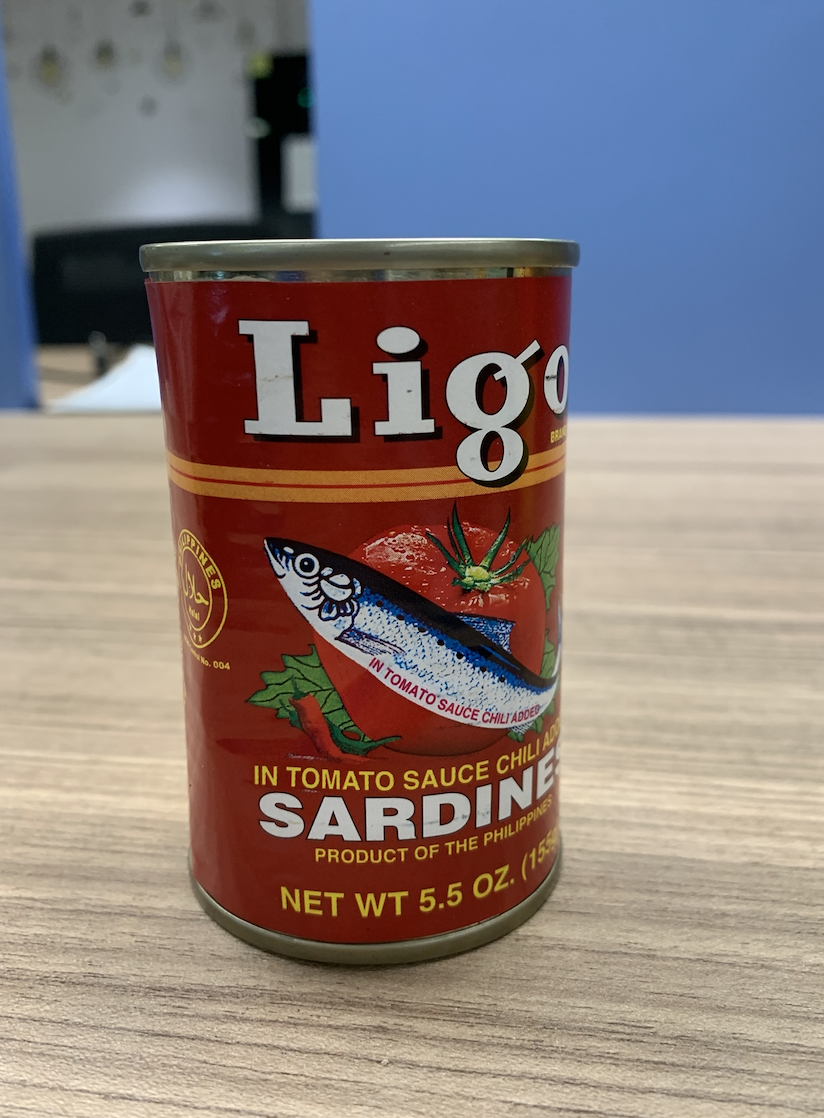sardines_100g-199g: (179, 309, 563, 915)
